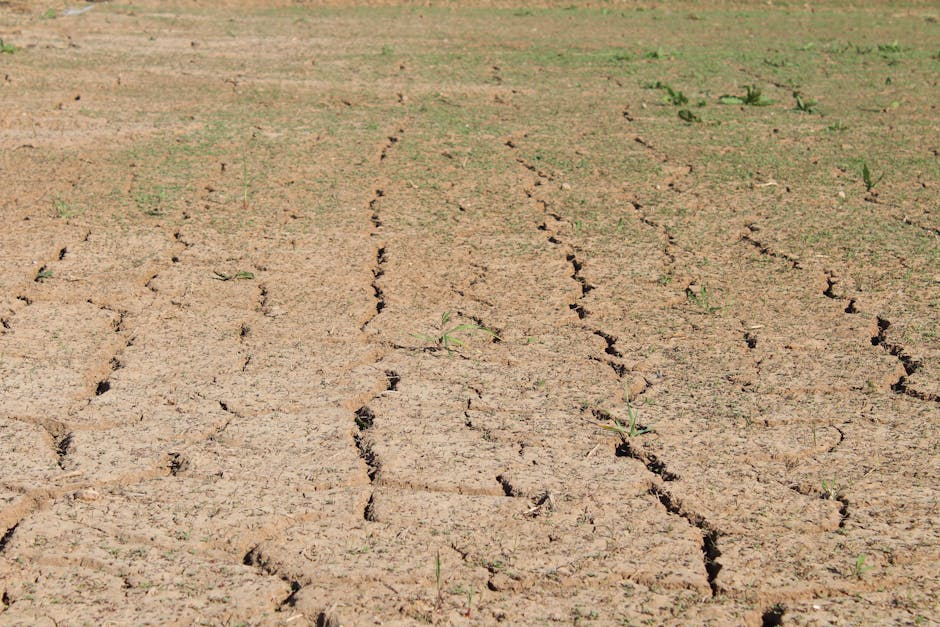细微裂纹: (465, 196, 792, 627), (574, 358, 805, 599), (335, 388, 402, 574)
